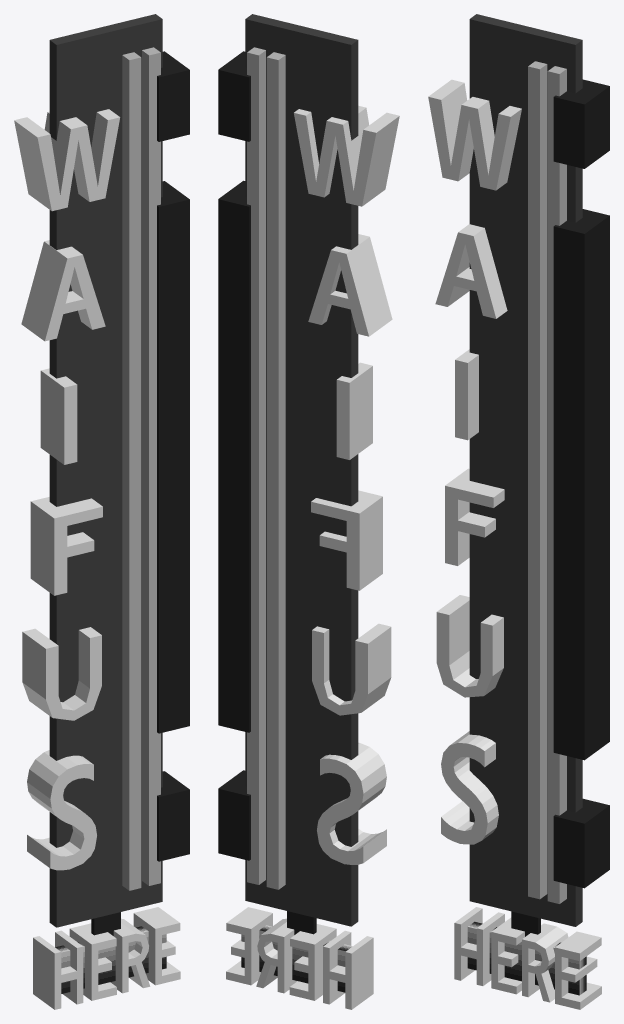
The model's file is sign_waifu.FBX.
3 renders of one model, left to right at view 1: azimuth 30°, elevation 25°; view 2: azimuth 150°, elevation 25°; view 3: azimuth 330°, elevation 25°, orthographic.
Visible parts, largest first — view 1: sign_waifu, sign_waifu_glow, sign_waifu_glow_here; view 2: sign_waifu, sign_waifu_glow, sign_waifu_glow_here; view 3: sign_waifu, sign_waifu_glow, sign_waifu_glow_here.
Part boxes in pixels (x1,y1,x2,y2): sign_waifu: (49, 14, 189, 993); sign_waifu_glow: (14, 109, 120, 870); sign_waifu_glow_here: (33, 907, 180, 1009); sign_waifu: (218, 14, 358, 992); sign_waifu_glow: (294, 105, 399, 864); sign_waifu_glow_here: (226, 907, 373, 1009); sign_waifu: (467, 14, 609, 995); sign_waifu_glow: (428, 79, 521, 844); sign_waifu_glow_here: (454, 907, 601, 1009).
Size of the model in its own units: 28.96 by 172 by 8.88.
